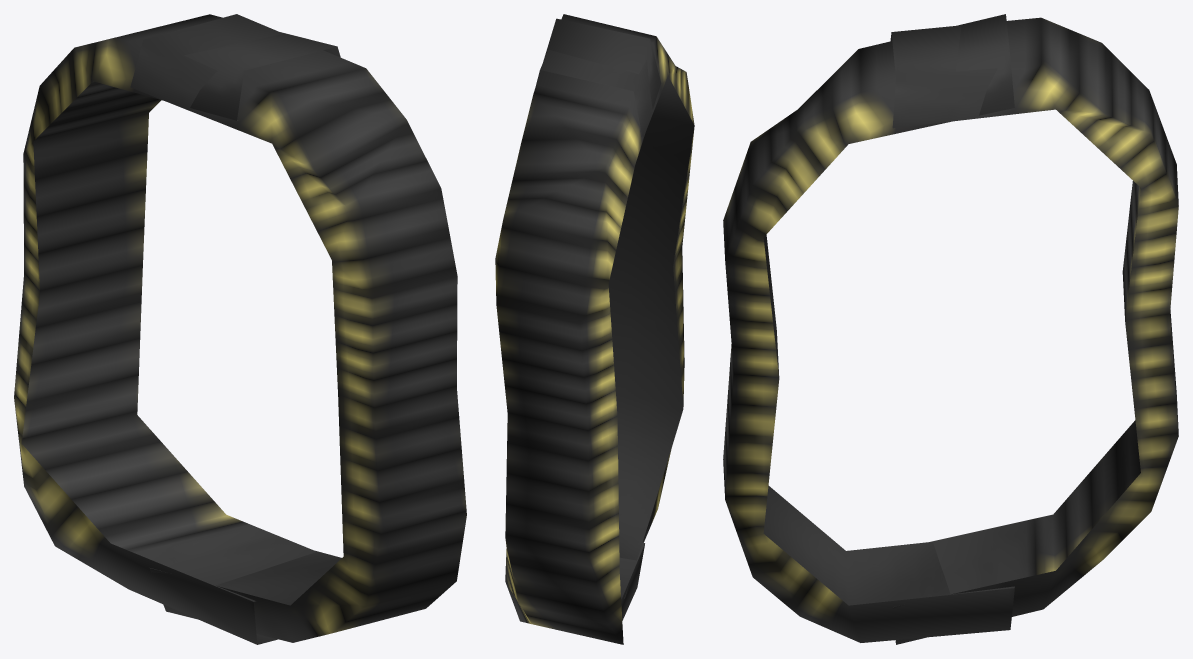
File: MBandolier1.fbx
3 views of the same model, side by side, from view 1: azimuth 30°, elevation 25°; view 2: azimuth 150°, elevation 25°; view 3: azimuth 270°, elevation 25° (orthographic). The views are drawn at different scales.
Visible parts, largest first — view 1: node_e6546090_ccc0_49cf_8d3a_5e22e91bf83a_mesh0; view 2: node_e6546090_ccc0_49cf_8d3a_5e22e91bf83a_mesh0; view 3: node_e6546090_ccc0_49cf_8d3a_5e22e91bf83a_mesh0.
Part boxes in pixels (x1,y1,x2,y2): node_e6546090_ccc0_49cf_8d3a_5e22e91bf83a_mesh0: (14, 14, 466, 644); node_e6546090_ccc0_49cf_8d3a_5e22e91bf83a_mesh0: (495, 14, 694, 644); node_e6546090_ccc0_49cf_8d3a_5e22e91bf83a_mesh0: (723, 14, 1178, 644).
Bounding box in the file's own units: 0.0909 × 0.2054 × 0.1509.
